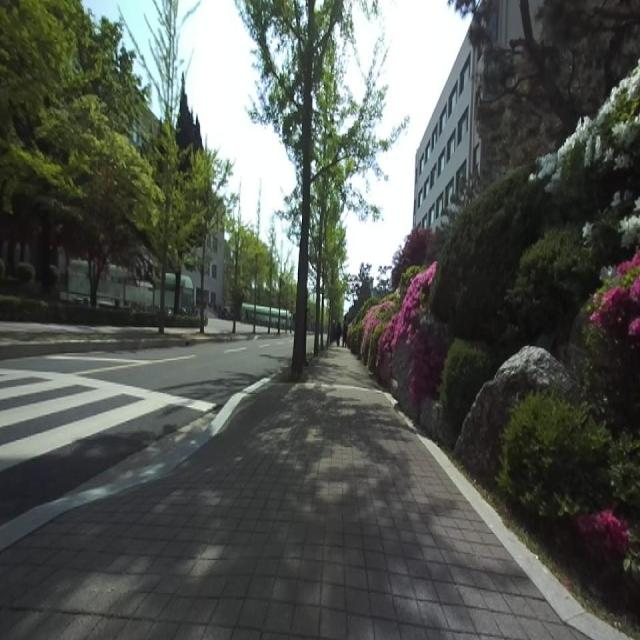sidewalk: (0, 348, 587, 639)
